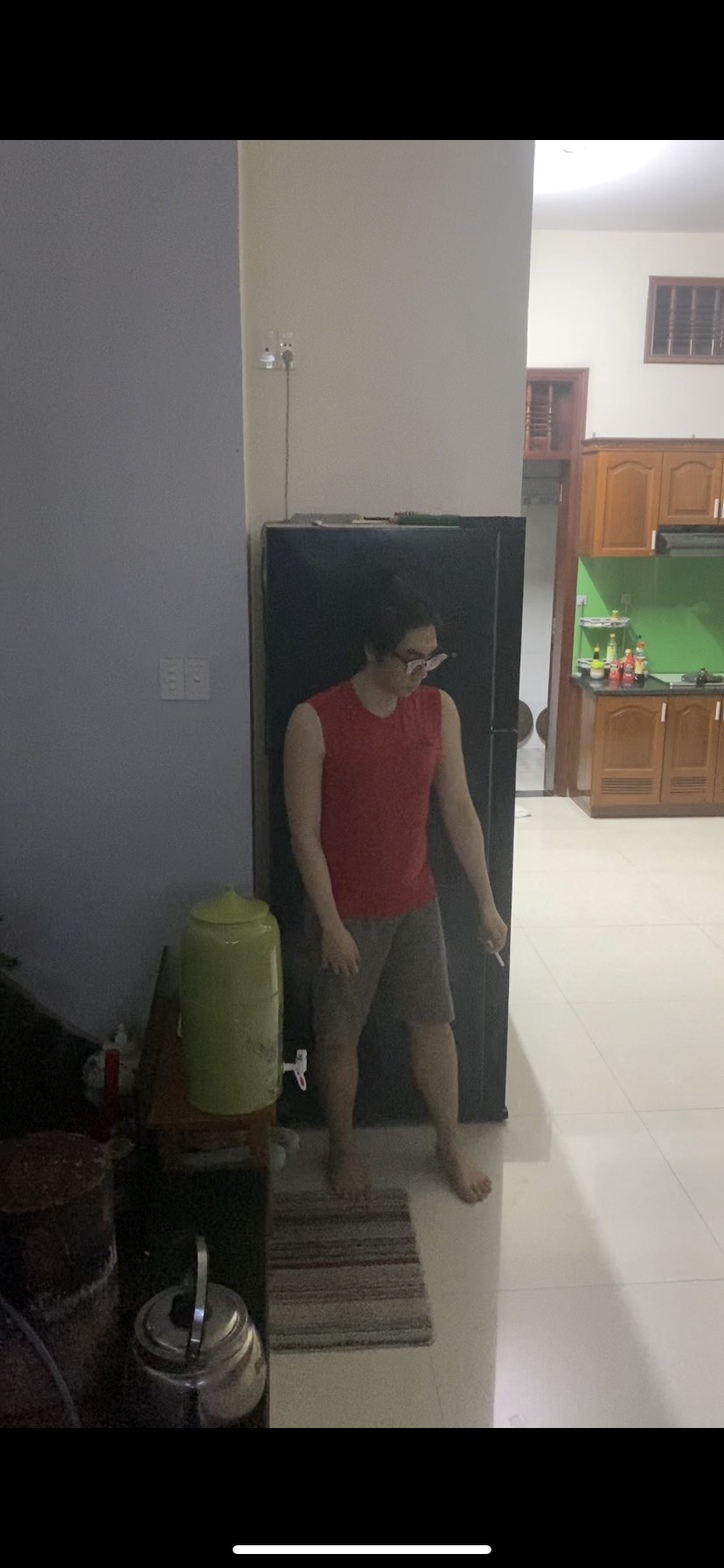cigarette: (492, 953, 507, 970)
person: (286, 558, 515, 1203)
